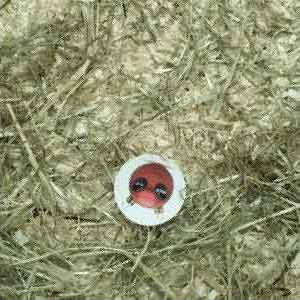badge: (114, 153, 186, 226)
